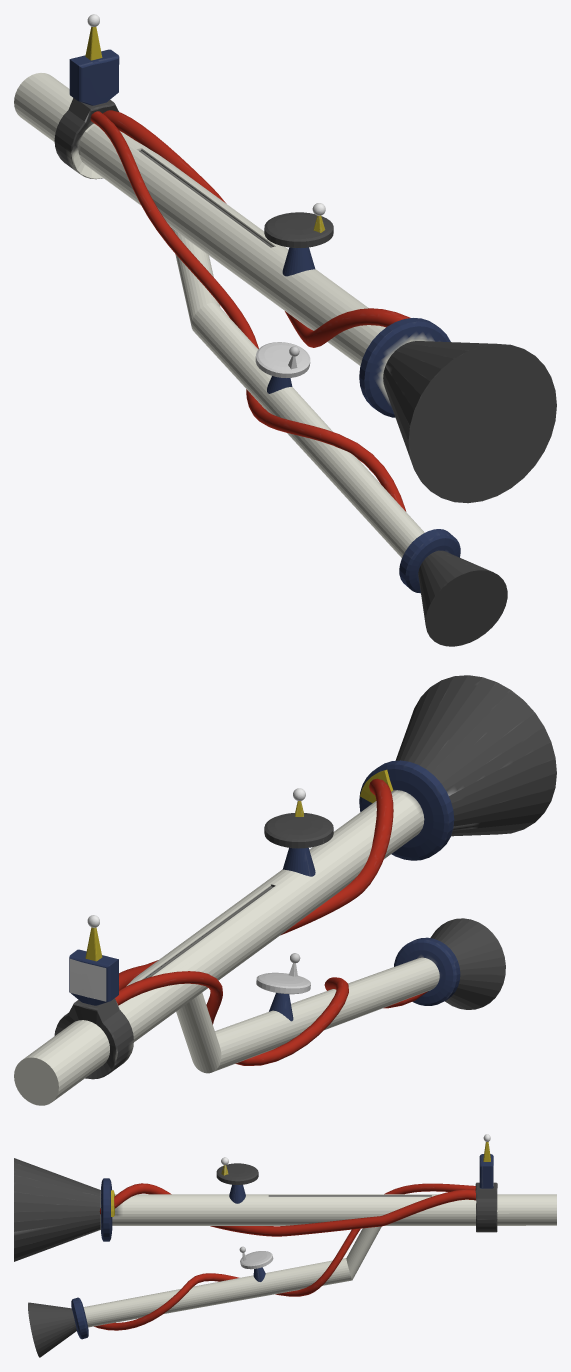
The model's file is VentiladorLvl1.fbx.
The picture shows the model from 3 angles, top to bottom: view 1: azimuth 30°, elevation 25°; view 2: azimuth 150°, elevation 25°; view 3: azimuth 270°, elevation 25°; orthographic projection. The views are drawn at different scales.
Parts seen in each view (by area): view 1: Cylinder, Cylinder.006, Cylinder.011; view 2: Cylinder, Cylinder.006, Cylinder.011; view 3: Cylinder, Cylinder.006, Cylinder.011.
Boxes of the visible parts, x1,y1,x2,y2 form: Cylinder: (14,14,556,646); Cylinder.006: (264,203,333,247); Cylinder.011: (255,342,310,377); Cylinder: (14,675,556,1105); Cylinder.006: (264,788,333,848); Cylinder.011: (256,953,310,994); Cylinder: (14,1134,556,1357); Cylinder.006: (216,1157,258,1184); Cylinder.011: (239,1246,273,1269).
Bounding box in the file's own units: 59.4 × 139 × 309.
